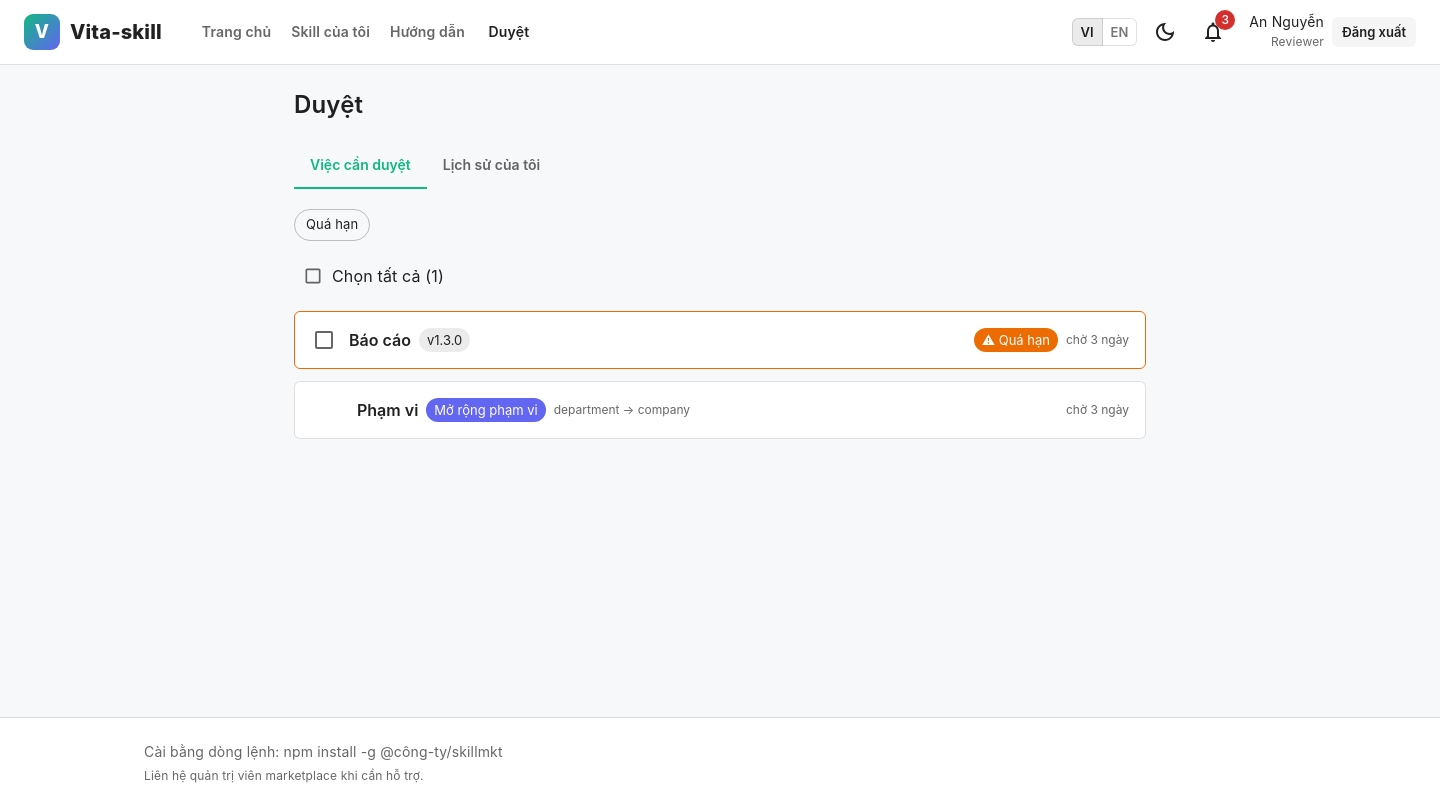
Test: ReviewQueuePage › Reviewer thấy việc được giao, nhãn quá hạn và bấm để mở
The image size is (1440, 810).
Expected: the text "⚠ Quá hạn" is shown, [982,332,1050,348]
Expected: the text "Mở rộng phạm vi" is shown, [426,402,546,418]
Step 1. Click the text "Báo cáo" → {"x": 380, "y": 340}, box [349,328,411,352]
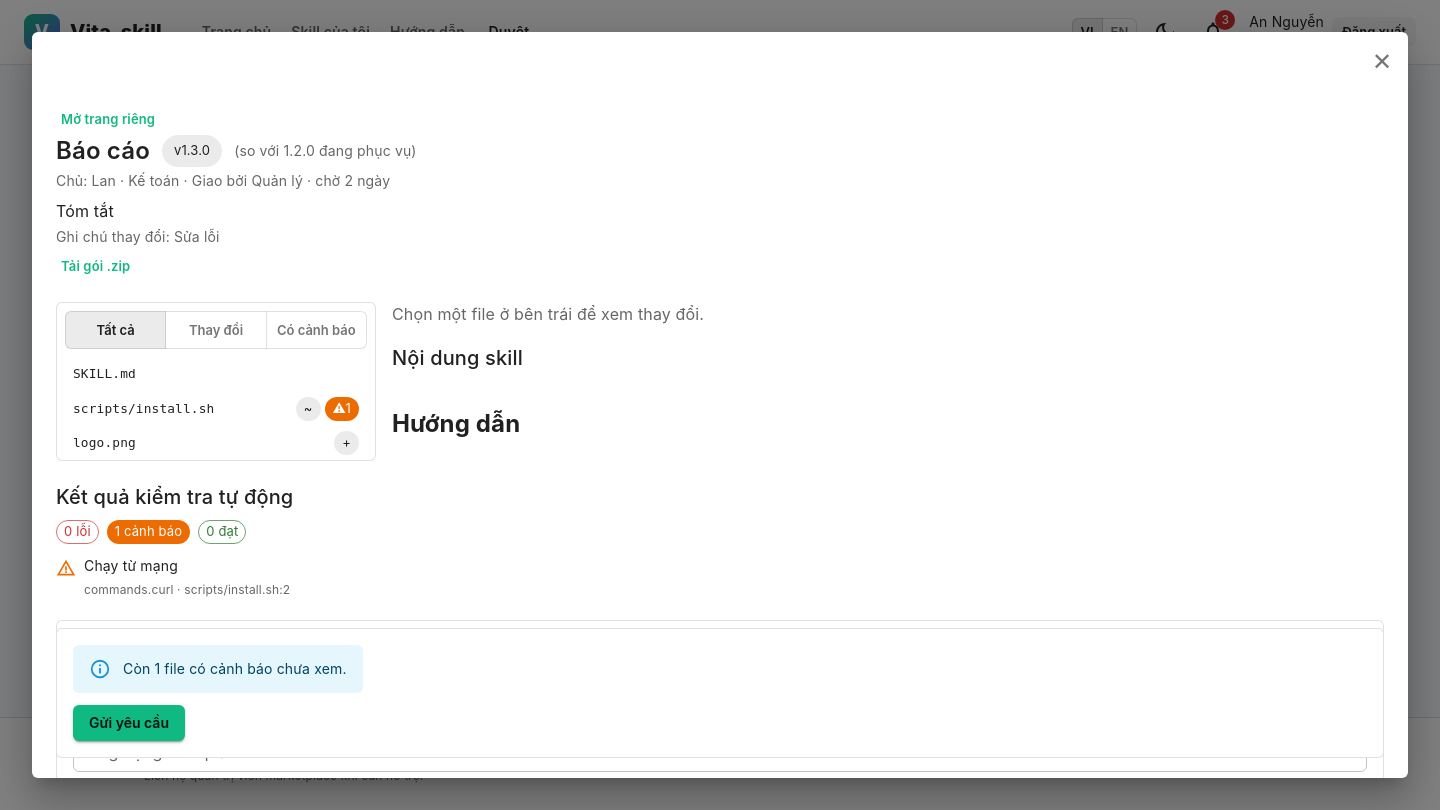
Expected: the heading "Báo cáo" is shown, [56,135,150,167]
